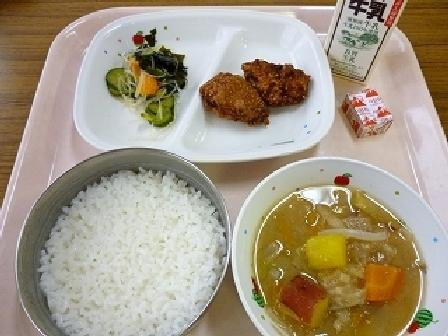Milk: (319, 0, 410, 83)
Rice: (23, 151, 239, 335)
Soups: (231, 151, 444, 335)
cutlet: (205, 55, 312, 131)
salad with sauce: (107, 35, 186, 125)
